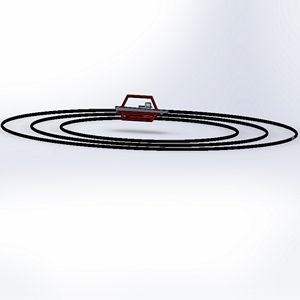circle: (1, 79, 299, 172)
submarine: (113, 88, 172, 130)
